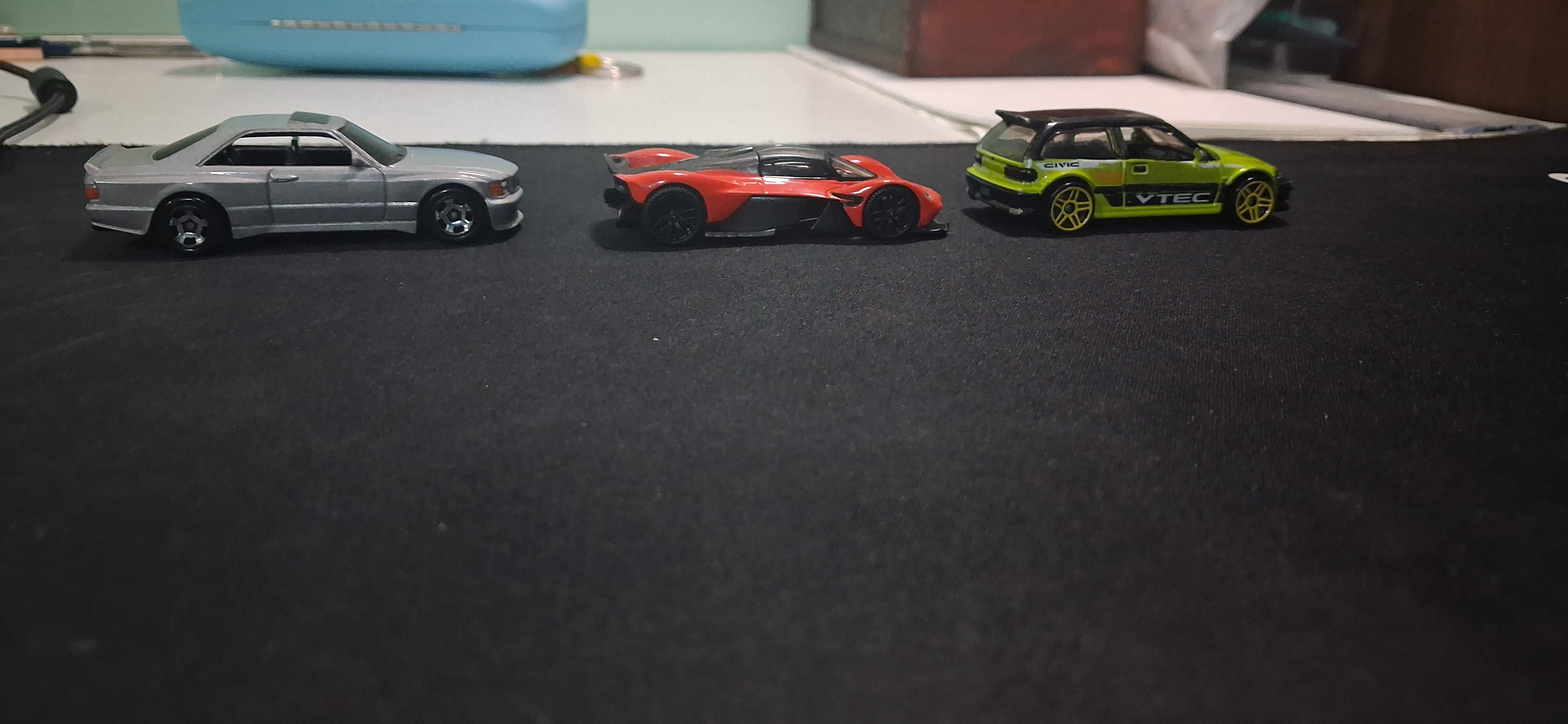Aston_Martin_Valkyrie: (599, 123, 941, 307)
Honda_Civic: (950, 74, 1330, 271)
Mercedes_Benz_560_SEC_AMG: (56, 78, 537, 288)
